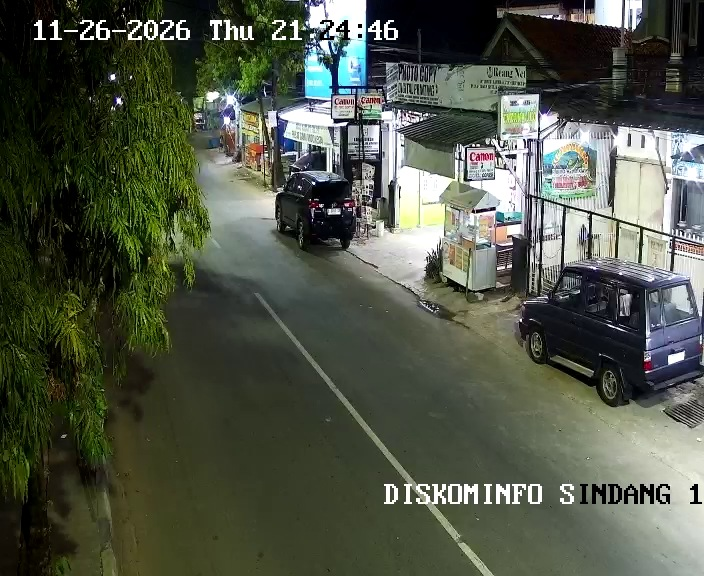Gerobak: (437, 181, 502, 295)
